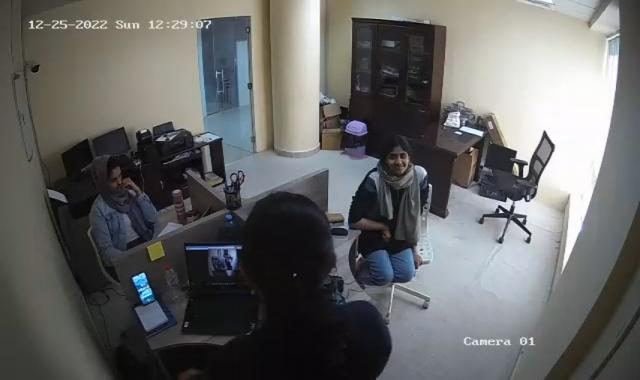no_hairnet: (246, 194, 334, 314), (384, 130, 412, 176), (93, 154, 122, 186)
